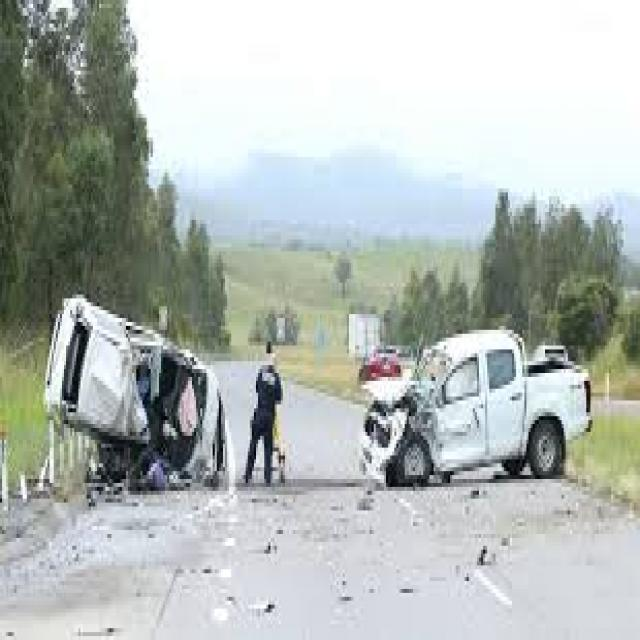accident: (41, 279, 587, 489), (35, 256, 234, 521), (352, 290, 594, 494)
